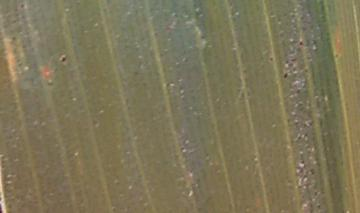tarspot: (56, 53, 69, 65), (266, 56, 275, 64), (281, 72, 289, 80), (297, 40, 304, 47)
